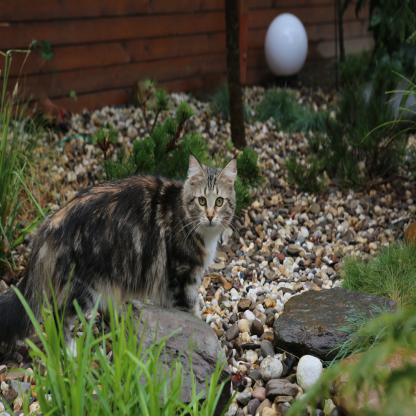Ball: (265, 15, 308, 76)
